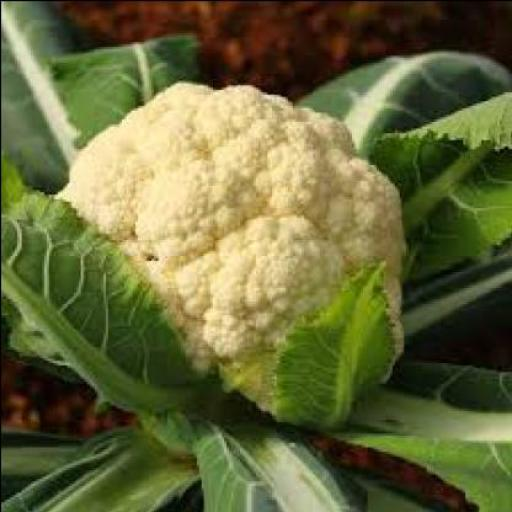biodegradable: (1, 1, 511, 511), (6, 80, 410, 423), (276, 259, 394, 428)
